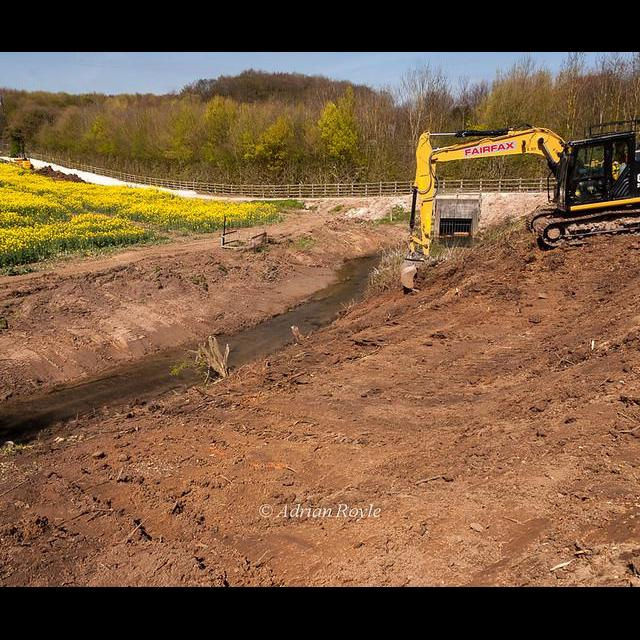Excavator: (399, 113, 640, 293)
Person: (612, 156, 620, 180)
Safety Vest: (612, 163, 619, 179)
